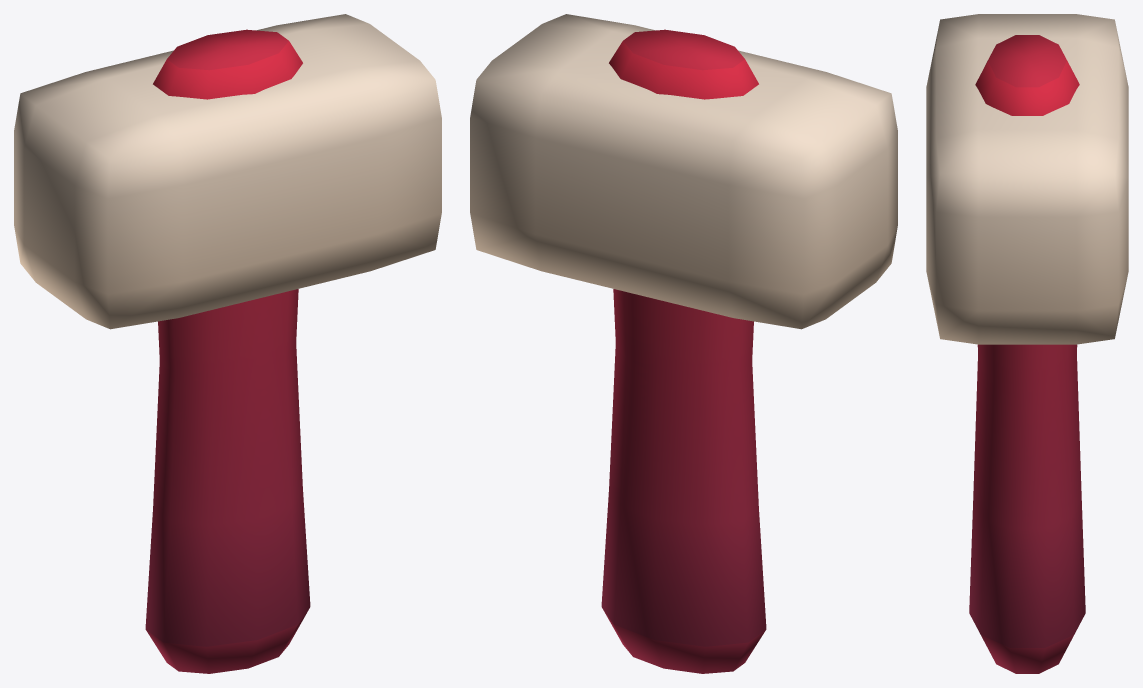
Rendered from Hammer.obj.
3 renders of one model, left to right at view 1: azimuth 30°, elevation 25°; view 2: azimuth 150°, elevation 25°; view 3: azimuth 270°, elevation 25°, orthographic. The views are drawn at different scales.
Visible parts, largest first — view 1: Hammer; view 2: Hammer; view 3: Hammer.
Boxes of the visible parts, box(x1,y1,x2,y2) form: Hammer: box(14, 14, 441, 673); Hammer: box(470, 14, 897, 673); Hammer: box(926, 14, 1128, 673).
Size of the model in its own units: 0.4437 by 0.7253 by 0.2237.
1 material, 1 textured.
